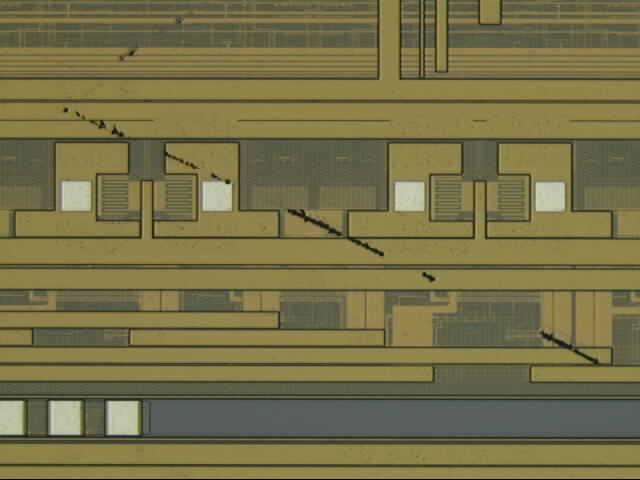SCRATCH: (59, 1, 612, 371)
